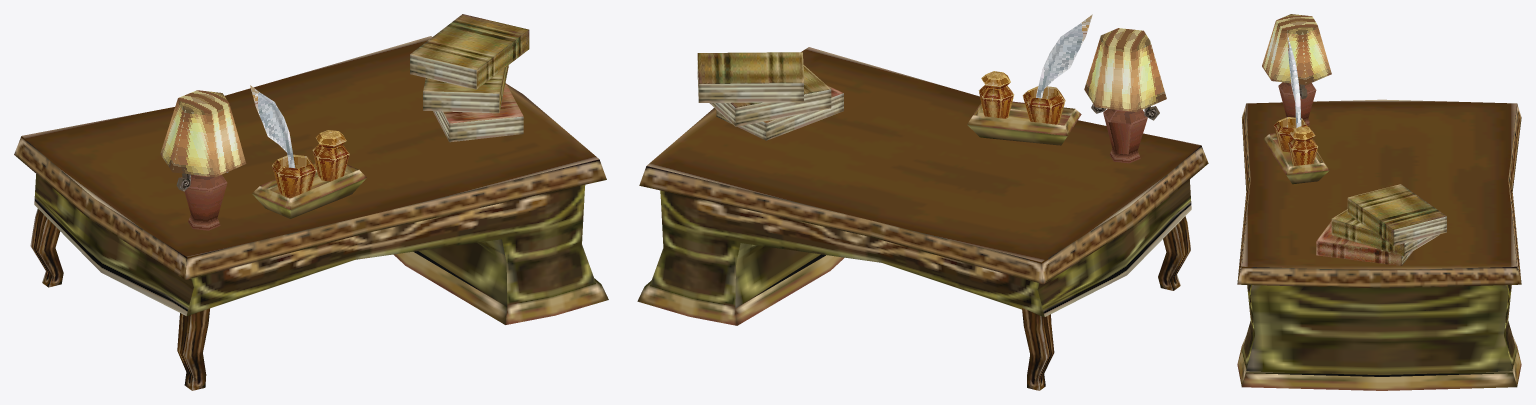
Rendered from desk34-2.glb.
The picture shows the model from 3 angles, left to right: view 1: azimuth 30°, elevation 25°; view 2: azimuth 150°, elevation 25°; view 3: azimuth 270°, elevation 25°; orthographic projection. The views are drawn at different scales.
Visible parts, largest first — view 1: desk34_2; view 2: desk34_2; view 3: desk34_2.
Boxes of the visible parts, x1,y1,x2,y2 form: desk34_2: (14,14,608,390); desk34_2: (637,14,1208,390); desk34_2: (1237,14,1521,390).
Size of the model in its own units: 474 by 280 by 320.
Materials: 9 (9 with a texture image).
